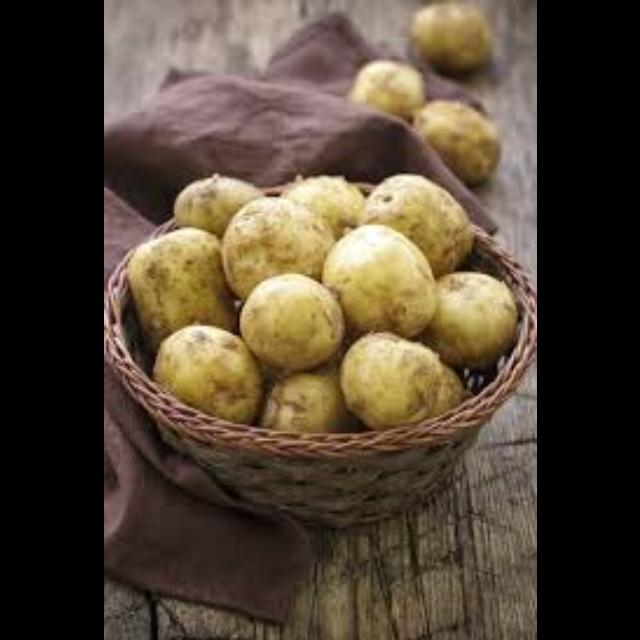Diseased-fungal potato: (334, 323, 464, 432), (125, 230, 242, 350), (218, 195, 342, 307), (358, 168, 472, 272), (152, 326, 260, 432), (430, 268, 522, 368), (420, 96, 504, 188), (340, 56, 424, 142), (170, 175, 270, 247), (410, 1, 494, 85)
Potato: (323, 224, 437, 334), (236, 273, 350, 375)
